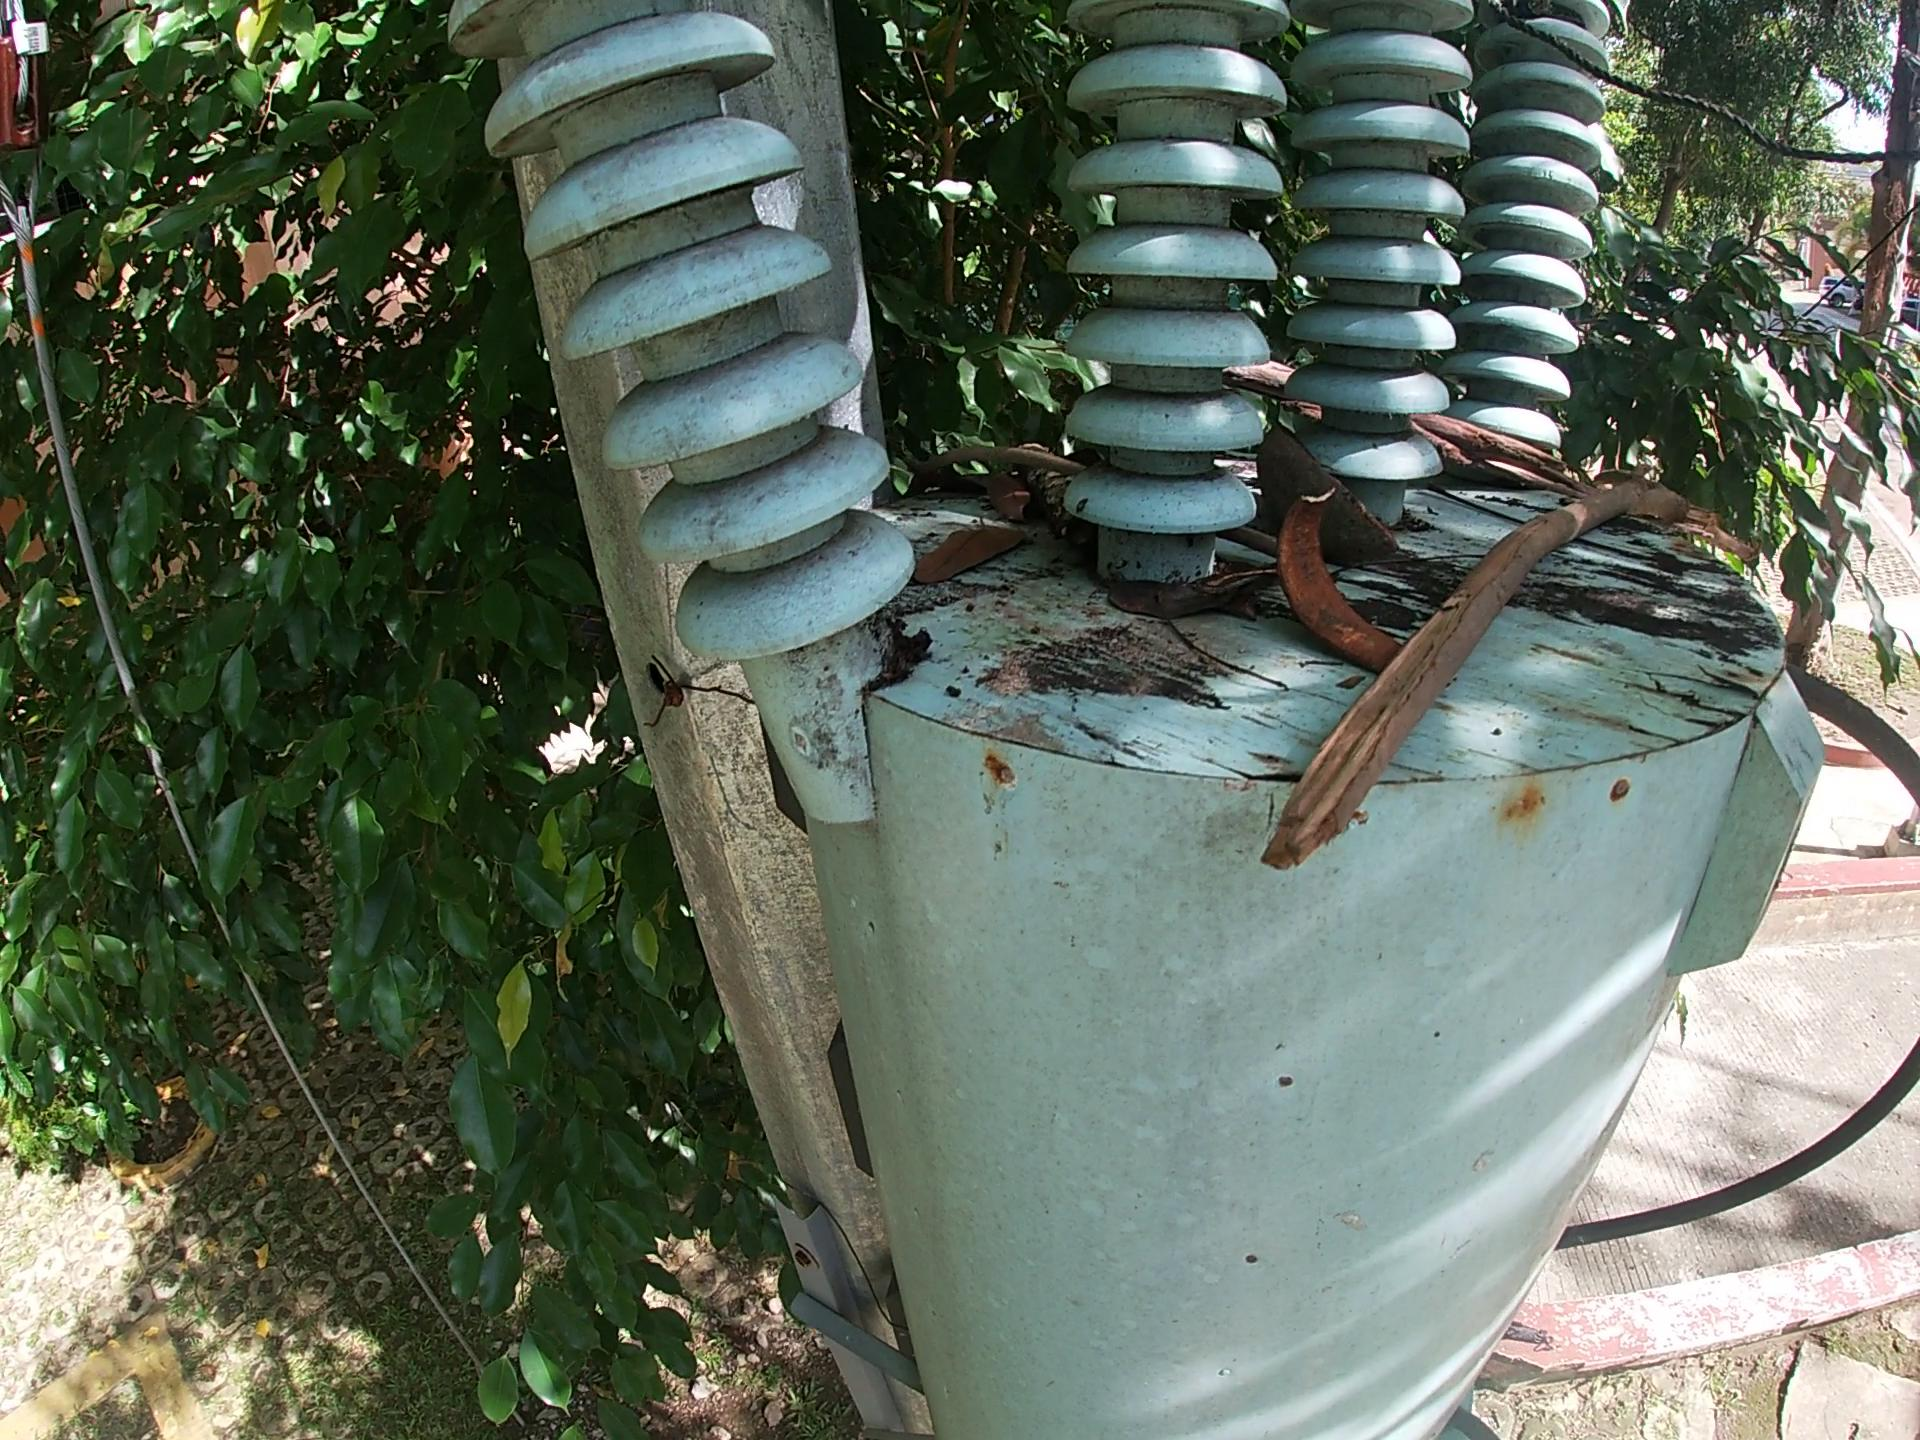leaf: (904, 517, 1042, 575), (1095, 564, 1167, 614)
mahogany fruit: (1252, 439, 1409, 567), (1281, 520, 1394, 666)
tree branch: (1281, 469, 1680, 892), (1420, 489, 1713, 573), (1398, 411, 1593, 490), (1169, 616, 1291, 700), (1004, 440, 1075, 532), (1226, 355, 1317, 413), (893, 451, 1089, 473), (1185, 569, 1281, 611), (1225, 519, 1274, 557)
